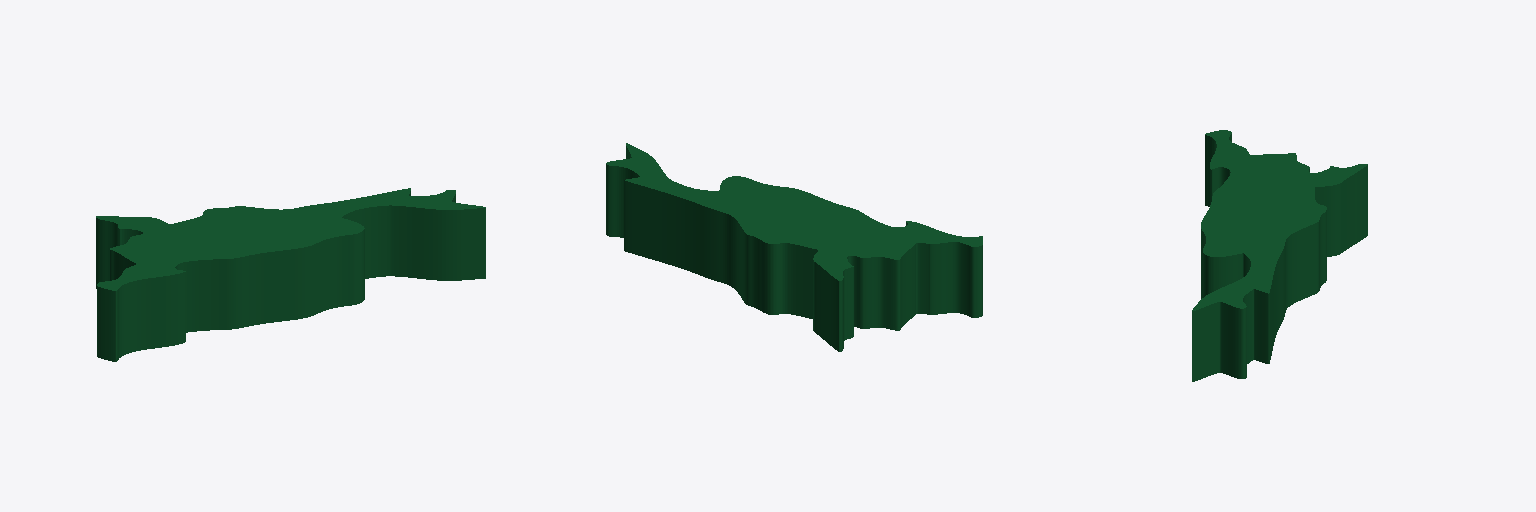
The model's file is Asia_04.obj.
3 views of the same model, side by side, from view 1: azimuth 30°, elevation 25°; view 2: azimuth 150°, elevation 25°; view 3: azimuth 270°, elevation 25° (orthographic).
Parts seen in each view (by area): view 1: Asia_04_path4262; view 2: Asia_04_path4262; view 3: Asia_04_path4262.
Part boxes in pixels (left/top/right/bottom): Asia_04_path4262: left=96, top=188, right=485, bottom=361; Asia_04_path4262: left=606, top=143, right=982, bottom=351; Asia_04_path4262: left=1192, top=130, right=1367, bottom=381.
Size of the model in its own units: 0.5497 by 0.1 by 0.2263.